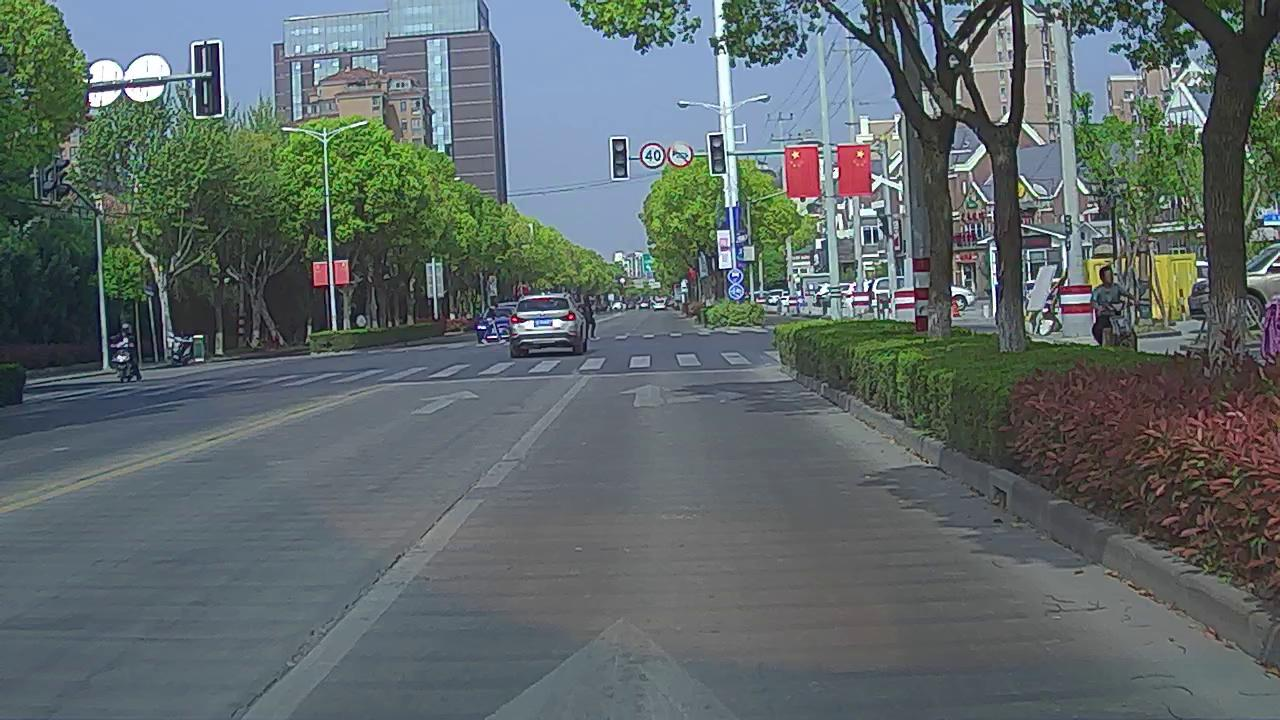traffic_light: (708, 133, 726, 175), (611, 137, 628, 178)
